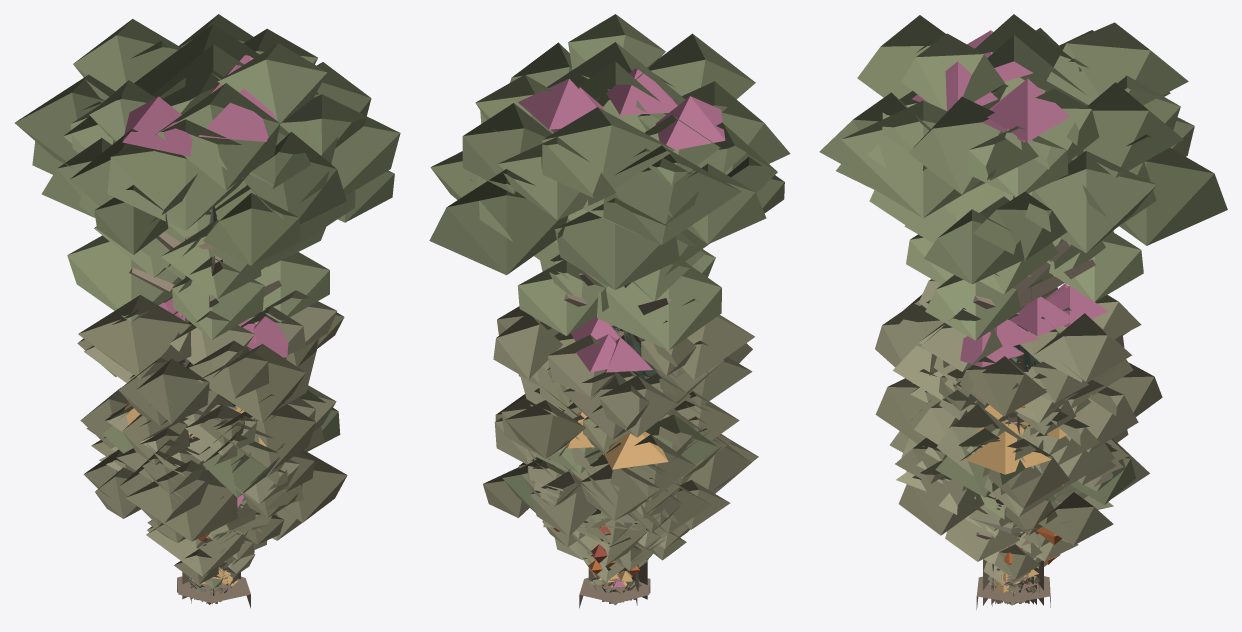
The model's file is winter.glb.
3 renders of one model, left to right at view 1: azimuth 30°, elevation 25°; view 2: azimuth 150°, elevation 25°; view 3: azimuth 270°, elevation 25°, orthographic. The views are drawn at different scales.
Visible parts, largest first — view 1: tree.trop.kapok__winter, tree.trop.dipterocarp__winter, tree.sub.camphor__winter, tree.temp.willow__winter, tree.temp.oak__winter, tree.sub.paulownia__winter, tree.trop.flame_tree__winter, tree.trop.mango__winter, tree.temp.plane_maple__winter, tree.sub.citrus__winter, tree.sub.tea_oil__winter, tree.trop.baobab__winter (+1 smaller); view 2: tree.trop.kapok__winter, tree.trop.dipterocarp__winter, tree.sub.camphor__winter, tree.trop.flame_tree__winter, tree.sub.paulownia__winter, tree.temp.willow__winter, tree.temp.oak__winter, tree.trop.mango__winter, tree.sub.citrus__winter, tree.sub.tea_oil__winter, tree.temp.plane_maple__winter, tree.trop.baobab__winter (+2 smaller); view 3: tree.trop.kapok__winter, tree.trop.dipterocarp__winter, tree.sub.camphor__winter, tree.temp.oak__winter, tree.trop.flame_tree__winter, tree.temp.willow__winter, tree.sub.paulownia__winter, tree.trop.mango__winter, tree.sub.citrus__winter, tree.temp.plane_maple__winter, tree.temp.ginkgo__winter, tree.temp.birch__winter (+3 smaller).
Part boxes in pixels (<box>): tree.trop.kapok__winter: <box>15,14,371,599</box>; tree.trop.dipterocarp__winter: <box>32,40,400,603</box>; tree.sub.camphor__winter: <box>77,290,344,599</box>; tree.temp.willow__winter: <box>91,437,347,599</box>; tree.temp.oak__winter: <box>80,385,336,599</box>; tree.sub.paulownia__winter: <box>112,298,317,576</box>; tree.trop.flame_tree__winter: <box>86,390,340,599</box>; tree.trop.mango__winter: <box>83,403,324,599</box>; tree.temp.plane_maple__winter: <box>106,419,302,591</box>; tree.sub.citrus__winter: <box>147,526,255,584</box>; tree.sub.tea_oil__winter: <box>147,495,284,553</box>; tree.trop.baobab__winter: <box>177,505,250,608</box>; tree.trop.kapok__winter: <box>462,14,777,599</box>; tree.trop.dipterocarp__winter: <box>429,61,790,605</box>; tree.sub.camphor__winter: <box>493,299,754,599</box>; tree.trop.flame_tree__winter: <box>494,406,751,600</box>; tree.sub.paulownia__winter: <box>518,316,752,579</box>; tree.temp.willow__winter: <box>483,438,758,571</box>; tree.temp.oak__winter: <box>495,368,739,599</box>; tree.trop.mango__winter: <box>521,409,732,600</box>; tree.sub.citrus__winter: <box>555,527,686,581</box>; tree.sub.tea_oil__winter: <box>542,509,667,563</box>; tree.temp.plane_maple__winter: <box>518,416,722,590</box>; tree.trop.baobab__winter: <box>579,510,650,608</box>; tree.trop.kapok__winter: <box>819,14,1188,605</box>; tree.trop.dipterocarp__winter: <box>836,35,1227,606</box>; tree.sub.camphor__winter: <box>875,273,1162,604</box>; tree.temp.oak__winter: <box>875,369,1138,604</box>; tree.trop.flame_tree__winter: <box>903,390,1135,603</box>; tree.temp.willow__winter: <box>889,426,1149,603</box>; tree.sub.paulownia__winter: <box>891,275,1124,579</box>; tree.trop.mango__winter: <box>895,396,1125,603</box>; tree.sub.citrus__winter: <box>983,532,1078,586</box>; tree.temp.plane_maple__winter: <box>906,424,1116,602</box>; tree.temp.ginkgo__winter: <box>939,358,1090,602</box>; tree.temp.birch__winter: <box>927,316,1075,410</box>.
Bounding box in the file's own units: 17.86 × 30.36 × 19.09.
